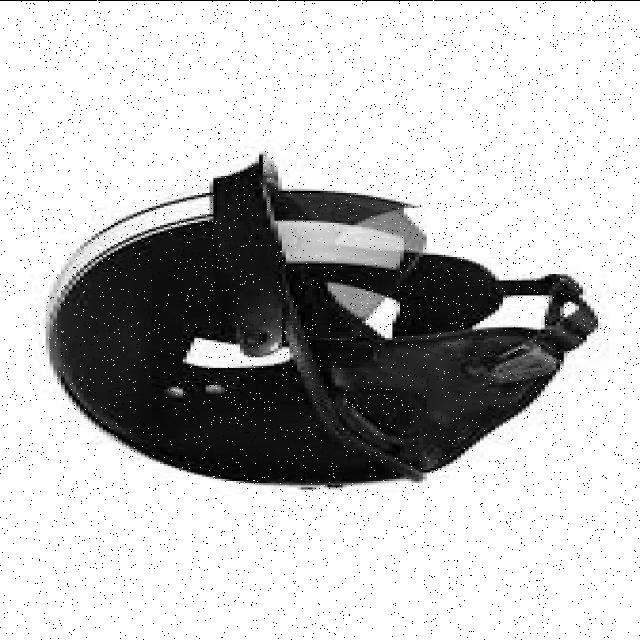Helmet: (38, 148, 584, 488)
